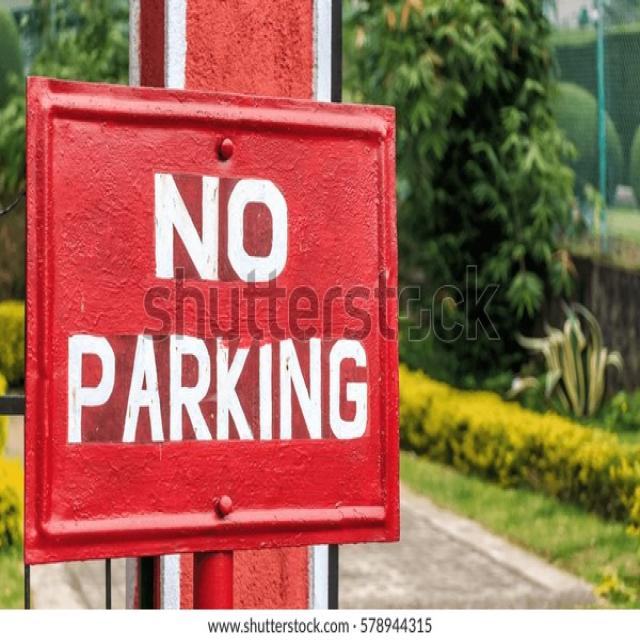Traffic sign: (36, 129, 393, 502)
